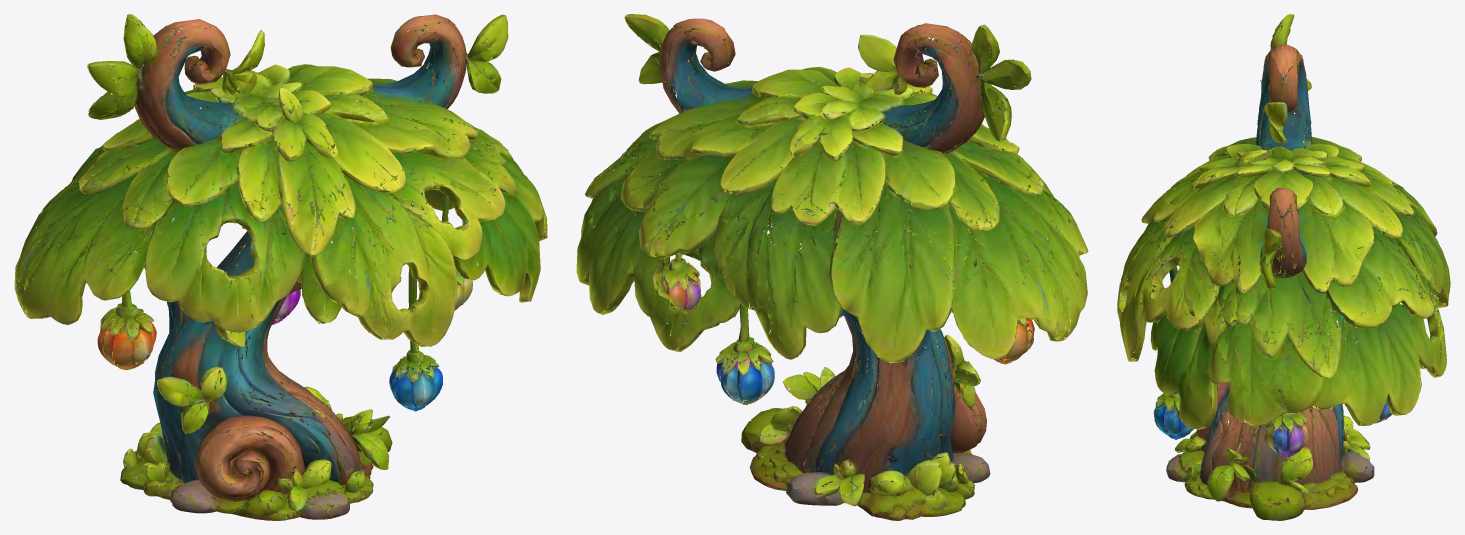
Rendered from lantern-leaf-tree.glb.
3 renders of one model, left to right at view 1: azimuth 30°, elevation 25°; view 2: azimuth 150°, elevation 25°; view 3: azimuth 270°, elevation 25°, orthographic. The views are drawn at different scales.
Visible parts, largest first — view 1: Mesh_0; view 2: Mesh_0; view 3: Mesh_0.
Boxes of the visible parts, x1=… form: Mesh_0: x1=14, y1=14, x2=547, y2=520; Mesh_0: x1=576, y1=14, x2=1088, y2=520; Mesh_0: x1=1117, y1=14, x2=1450, y2=520.
Bounding box in the file's own units: 1.91 × 1.81 × 1.35.
Materials: 1 (1 with a texture image).
